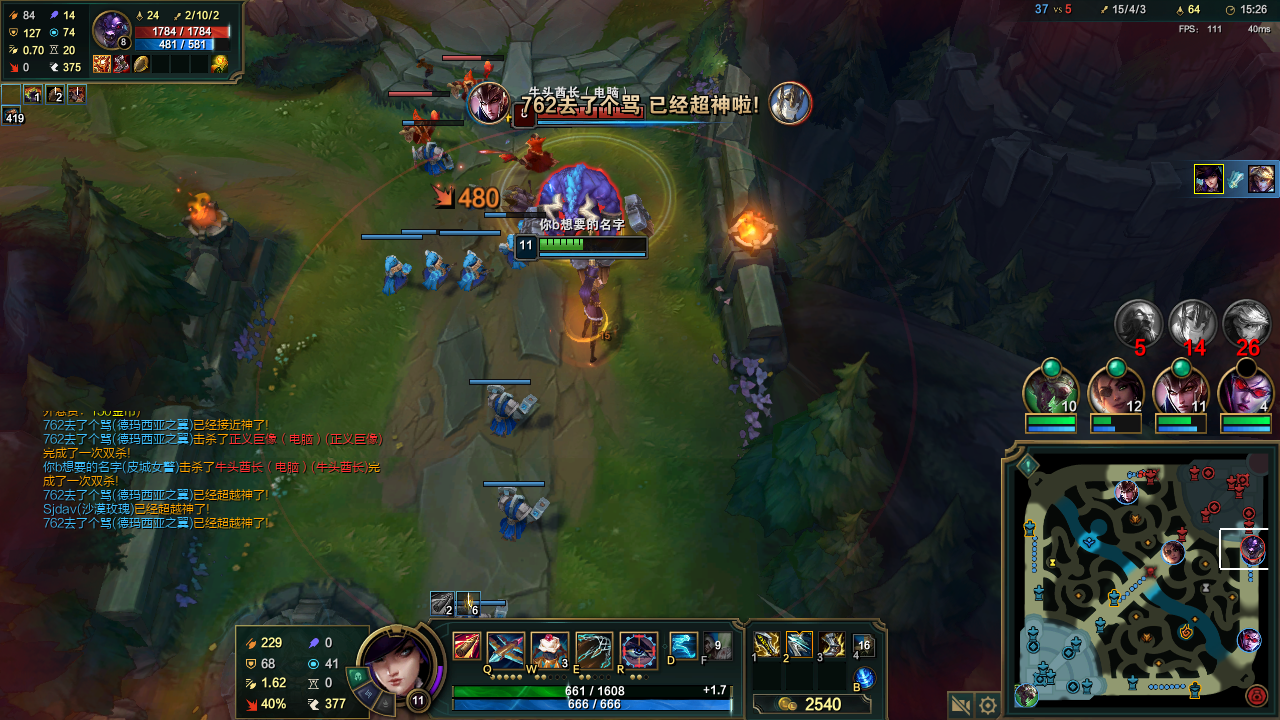DFXB: (511, 132, 544, 173), (394, 103, 427, 138), (449, 74, 487, 104)
DFYX: (527, 107, 643, 124)
WFXB: (479, 388, 543, 447), (486, 488, 553, 539), (418, 250, 453, 295), (376, 255, 412, 292), (488, 225, 518, 266), (454, 244, 478, 291)
